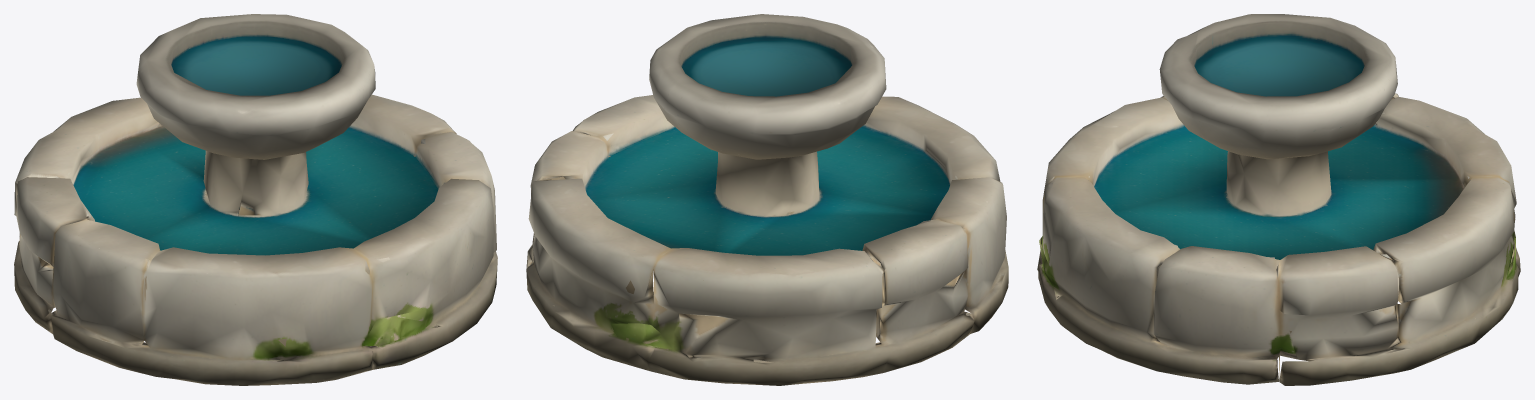
Rendered from fountain.glb.
The picture shows the model from 3 angles, left to right: view 1: azimuth 30°, elevation 25°; view 2: azimuth 150°, elevation 25°; view 3: azimuth 270°, elevation 25°; orthographic projection.
Parts seen in each view (by area): view 1: geometry_0.001; view 2: geometry_0.001; view 3: geometry_0.001.
Part boxes in pixels (bbox=[...]): geometry_0.001: bbox=[14, 14, 497, 385]; geometry_0.001: bbox=[526, 14, 1008, 385]; geometry_0.001: bbox=[1037, 14, 1520, 385].
Bounding box in the file's own units: 1.99 × 1.03 × 1.99.
1 material, 1 textured.
